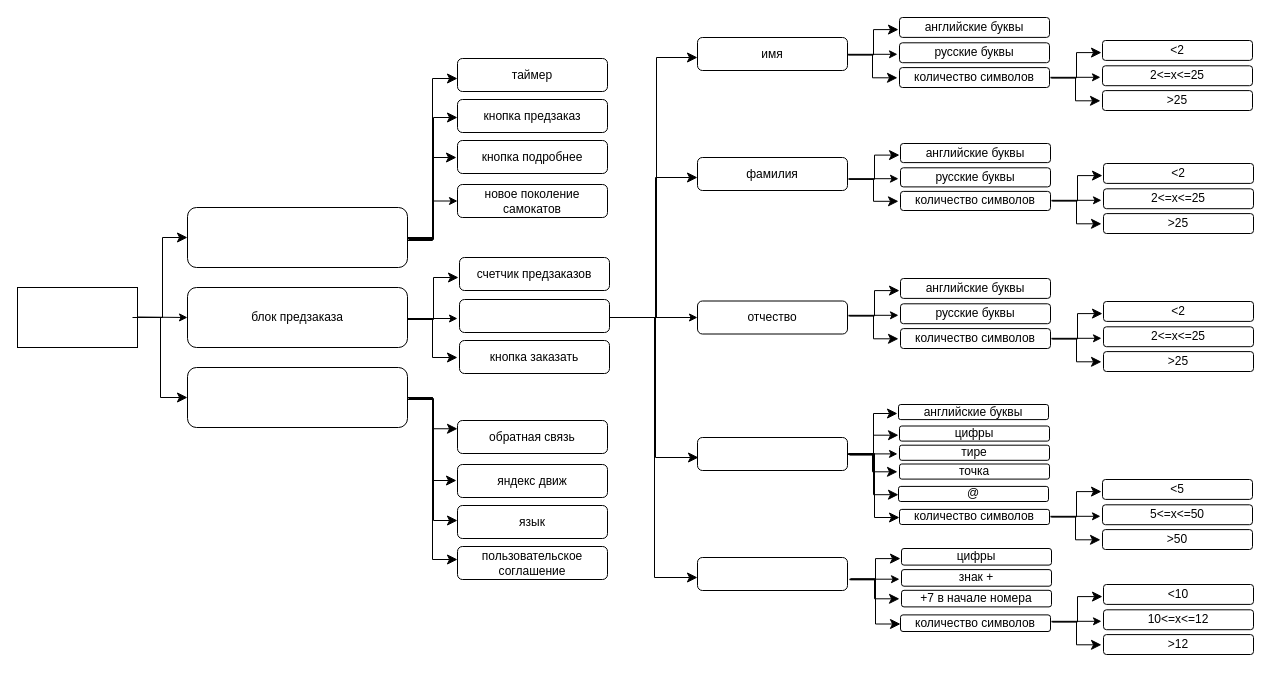
Image size: 1271x673. Some labels were removed from this diagram. The shapes that lost their labels are listed below. From the top down, each one's centre as x and y in pixels, then its label:
(x=297, y=237): верхний блок
(x=77, y=317): Промостраница
(x=534, y=315): поля формы
(x=297, y=397): нижний блок
(x=772, y=453): электронная почта
(x=772, y=573): телефон
